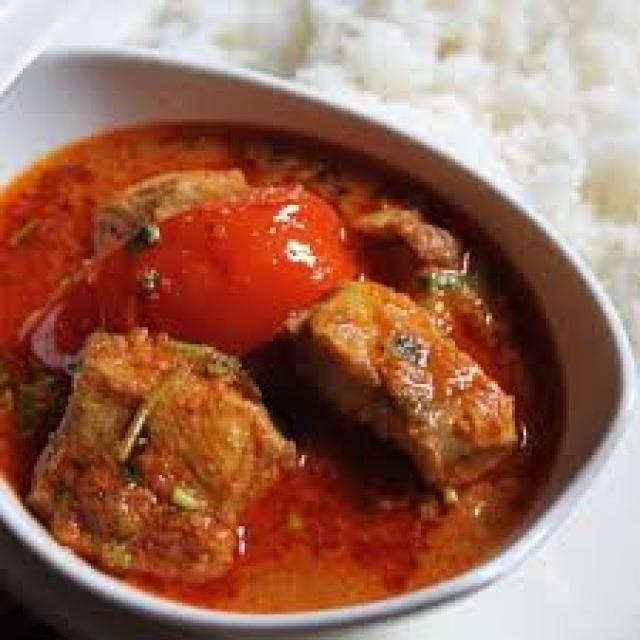FISH CURRY: (0, 71, 547, 617)
